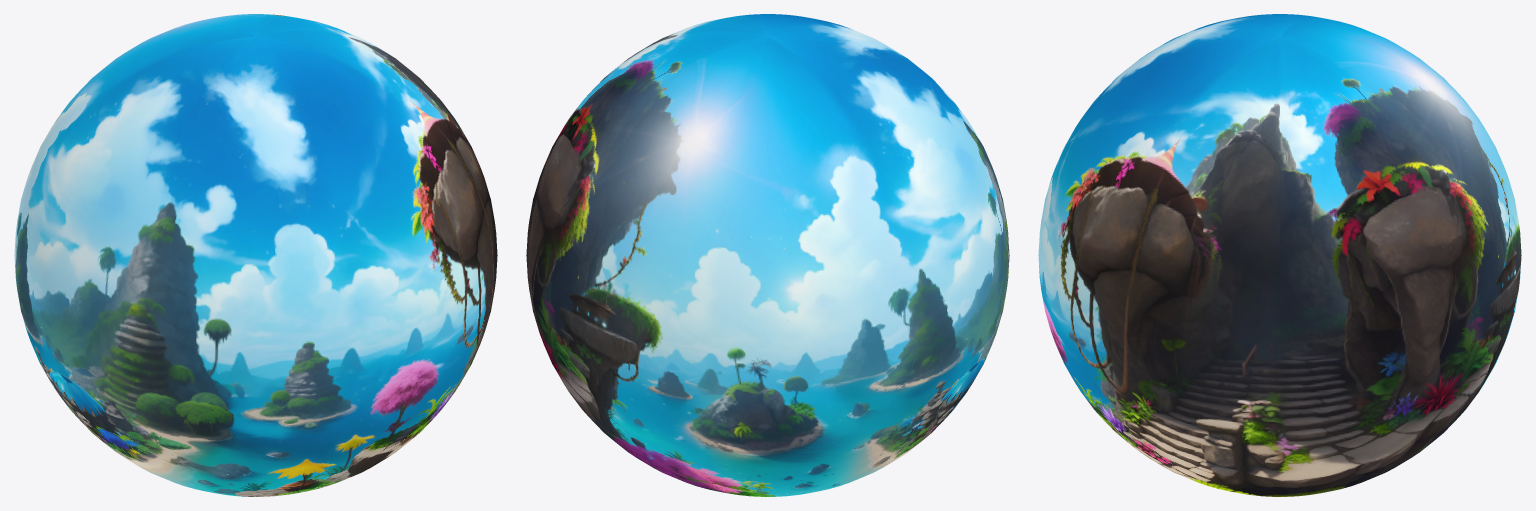
The model's file is skybox.opt.glb.
The picture shows the model from 3 angles, left to right: view 1: azimuth 30°, elevation 25°; view 2: azimuth 150°, elevation 25°; view 3: azimuth 270°, elevation 25°; orthographic projection.
Parts seen in each view (by area): view 1: Sphere_Mat_0; view 2: Sphere_Mat_0; view 3: Sphere_Mat_0.
Part boxes in pixels (<box>): Sphere_Mat_0: <box>14,14,497,496</box>; Sphere_Mat_0: <box>526,14,1009,496</box>; Sphere_Mat_0: <box>1038,14,1521,496</box>.
Bounding box in the file's own units: 12.64 × 12.64 × 12.64.
Materials: 1 (1 with a texture image).
